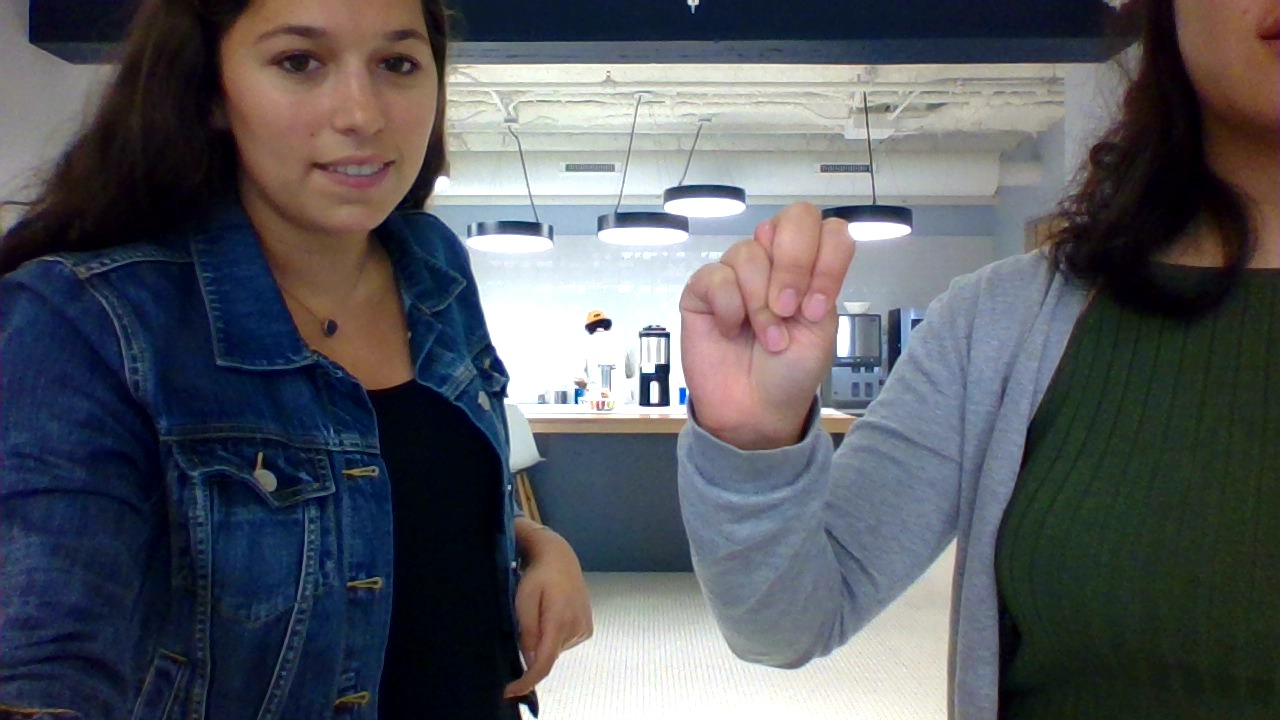n: (661, 191, 877, 480)
